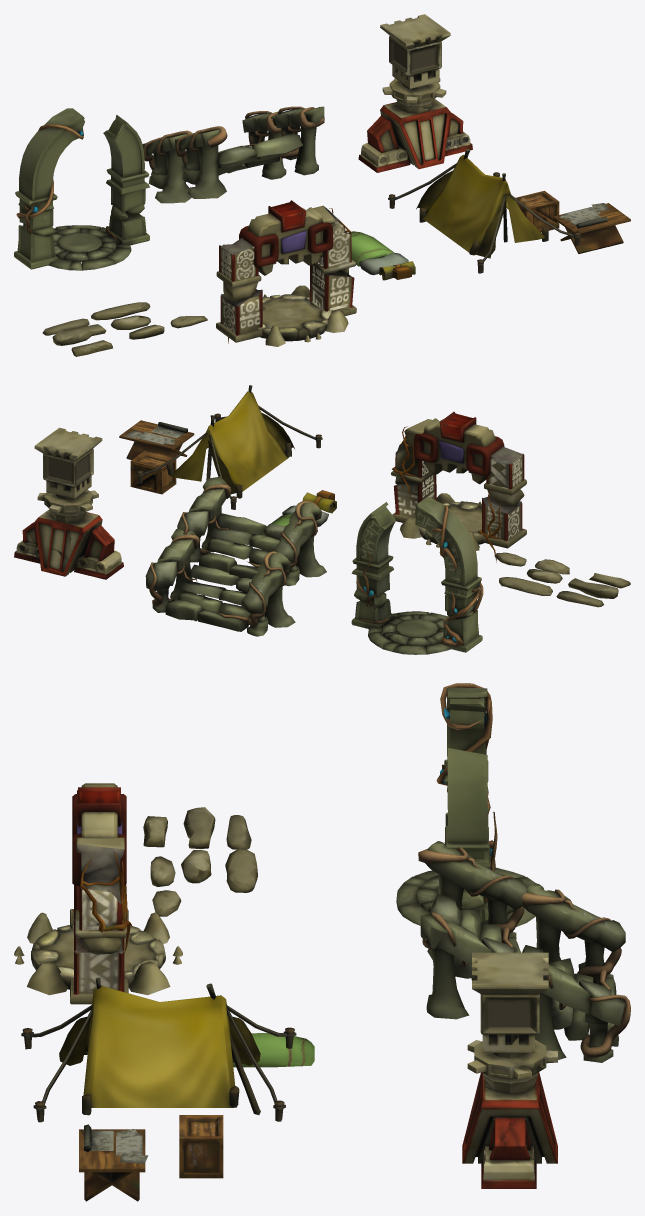
The model's file is Gate.FBX.
3 views of the same model, one above another, from view 1: azimuth 30°, elevation 25°; view 2: azimuth 150°, elevation 25°; view 3: azimuth 270°, elevation 25° (orthographic). The views are drawn at different scales.
Visible parts, largest first — view 1: Gate_02, Gate_01, statue, Stairs, Tent, table, bed, cart, stones_04, stones_00, bedpart2; view 2: Stairs, Gate_01, Gate_02, statue, Tent, table, cart, stones_00, stones_04, bedpart2, stones_03; view 3: Stairs, Tent, Gate_02, statue, Gate_01, table, cart, bed, stones_00, stones_04, stones_01, stones_03.
Boxes of the visible parts, left/top/right/bottom form: Gate_02: left=216, top=200, right=356, bottom=346; Gate_01: left=14, top=108, right=149, bottom=270; statue: left=358, top=14, right=472, bottom=172; Stairs: left=142, top=106, right=324, bottom=203; Tent: left=388, top=149, right=581, bottom=273; table: left=553, top=203, right=630, bottom=253; bed: left=348, top=231, right=408, bottom=275; cart: left=515, top=190, right=559, bottom=232; stones_04: left=52, top=324, right=106, bottom=345; stones_00: left=91, top=302, right=150, bottom=320; bedpart2: left=379, top=261, right=415, bottom=280; Stairs: left=145, top=476, right=326, bottom=636; Gate_01: left=351, top=496, right=483, bottom=654; Gate_02: left=391, top=412, right=526, bottom=562; statue: left=14, top=427, right=123, bottom=579; Tent: left=136, top=385, right=322, bottom=509; table: left=119, top=420, right=194, bottom=459; cart: left=130, top=451, right=176, bottom=494; stones_00: left=499, top=577, right=552, bottom=595; stones_04: left=568, top=578, right=618, bottom=598; bedpart2: left=302, top=490, right=336, bottom=513; stones_03: left=556, top=591, right=603, bottom=607; Stairs: left=418, top=841, right=630, bottom=1062; Tent: left=21, top=977, right=296, bottom=1122; Gate_02: left=14, top=783, right=182, bottom=1004; statue: left=462, top=952, right=557, bottom=1188; Gate_01: left=396, top=683, right=535, bottom=926; table: left=79, top=1124, right=148, bottom=1201; cart: left=179, top=1115, right=223, bottom=1178; bed: left=233, top=1033, right=314, bottom=1067; stones_00: left=225, top=848, right=257, bottom=892; stones_04: left=183, top=807, right=215, bottom=849; stones_01: left=181, top=850, right=211, bottom=883; stones_03: left=226, top=815, right=251, bottom=849.
Size of the model in its own units: 3697 by 1048 by 2485.
